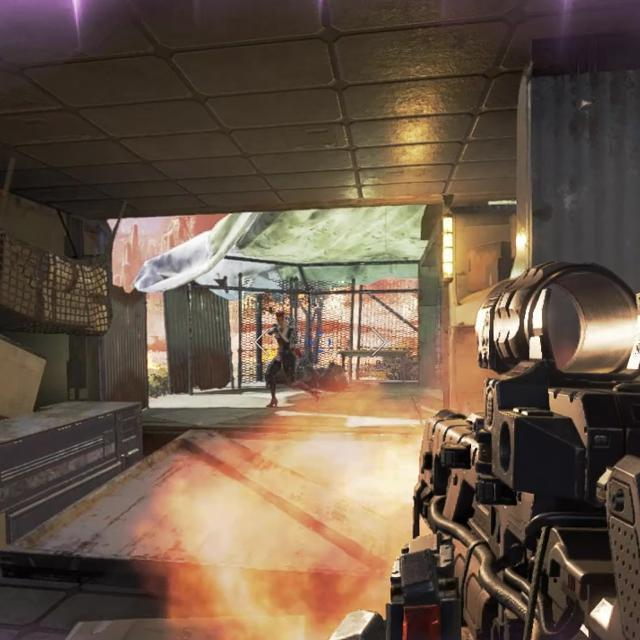avatar: (262, 309, 301, 411)
